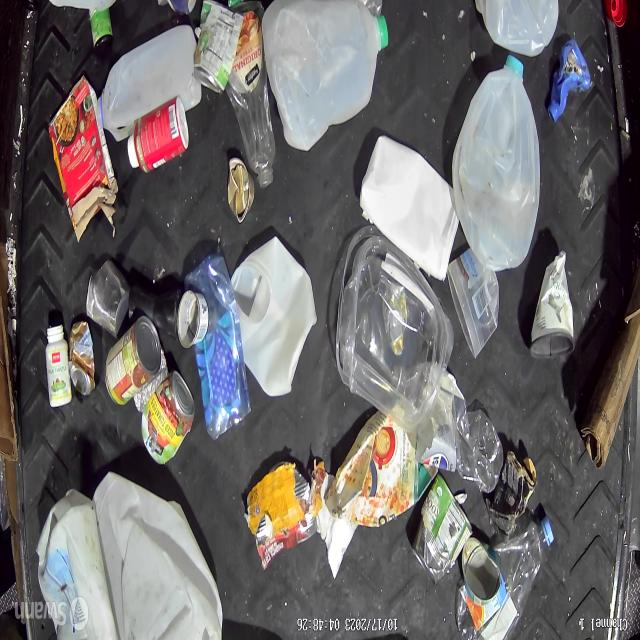can: (254, 460, 318, 571), (411, 473, 473, 586), (104, 316, 162, 406), (142, 371, 195, 465), (456, 536, 503, 627), (194, 1, 238, 96), (87, 258, 130, 341), (68, 318, 95, 396), (227, 158, 255, 224)
milk_jug: (87, 472, 219, 640), (451, 56, 541, 273), (264, 1, 387, 155), (96, 24, 202, 143), (237, 242, 316, 398), (36, 496, 120, 639), (477, 0, 557, 56)
plastic_bottle: (226, 5, 276, 192), (486, 516, 552, 638)
